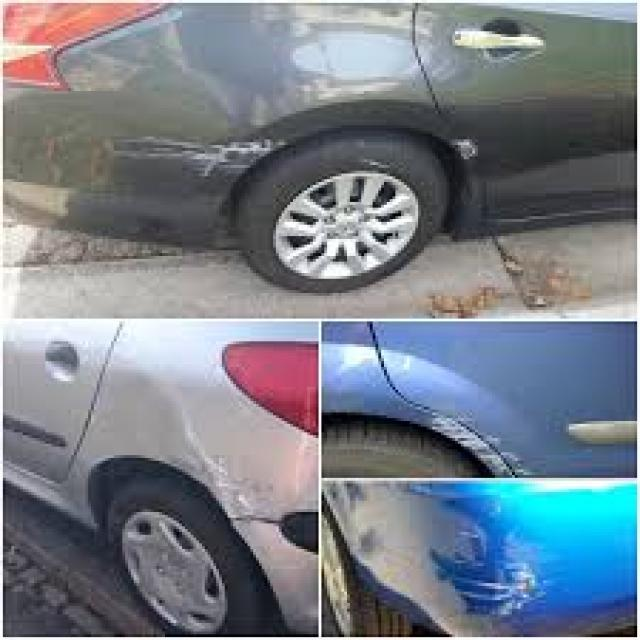dent-or-scratch: (454, 522, 554, 618), (427, 400, 534, 478), (110, 126, 288, 172), (189, 462, 291, 528)
